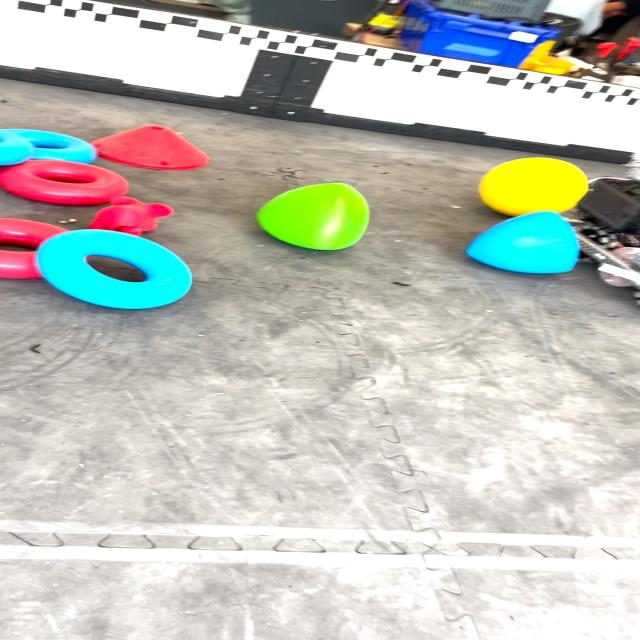Blue-Ring: (36, 229, 191, 309), (0, 128, 95, 164)
Red-Ring: (0, 160, 129, 205), (0, 218, 67, 248), (0, 250, 42, 279)
